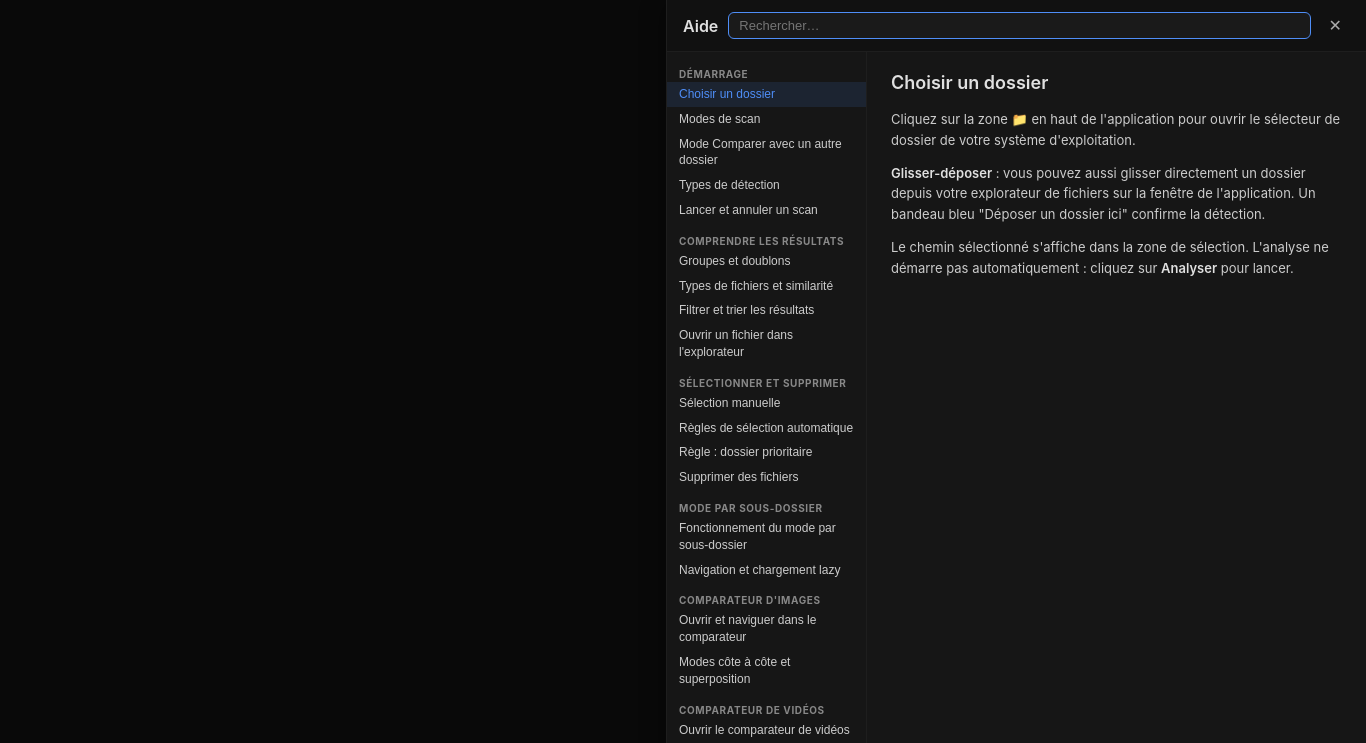
Test: HelpPanel › clique sur un article l'affiche dans le panneau droit
Click the button "Modes de scan".
click(766, 119)  # box top-left (667, 107), bottom-right (866, 132)
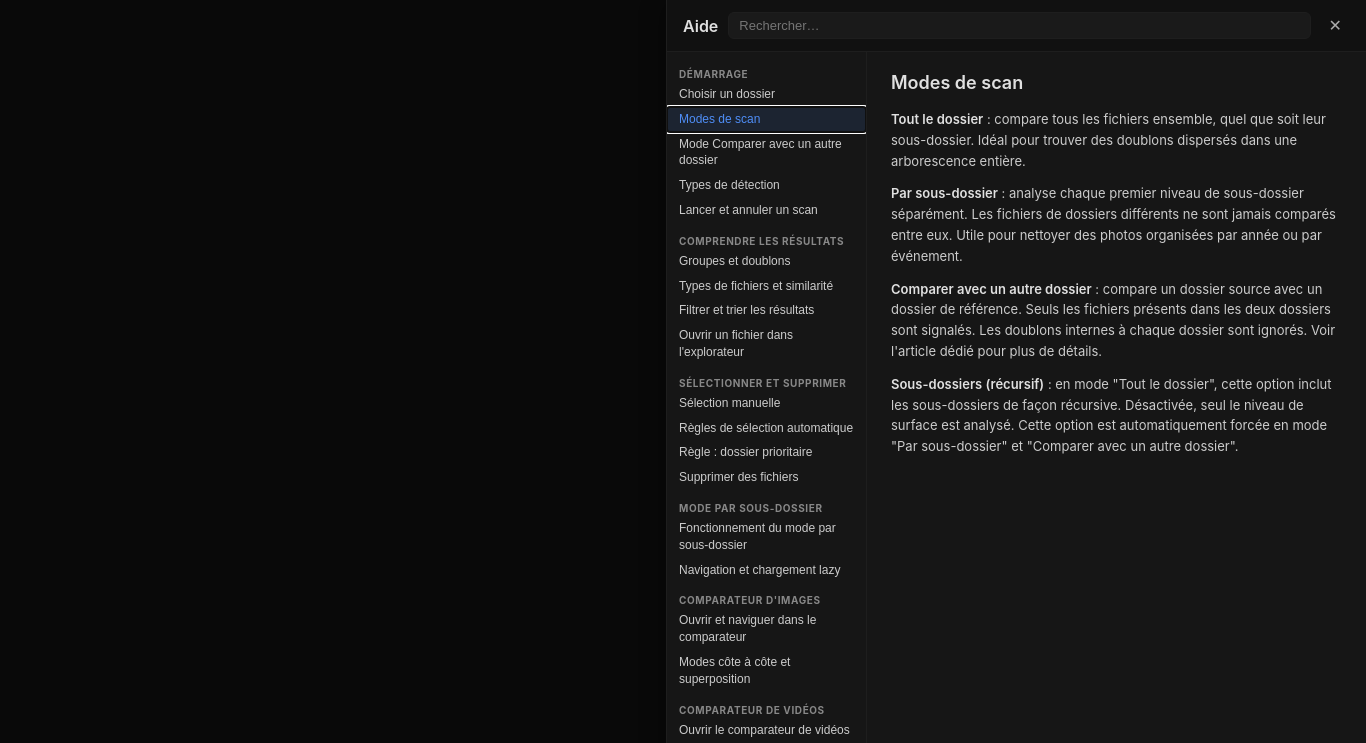
Now the heading "Modes de scan" is shown, box top-left (891, 72), bottom-right (1023, 93)
